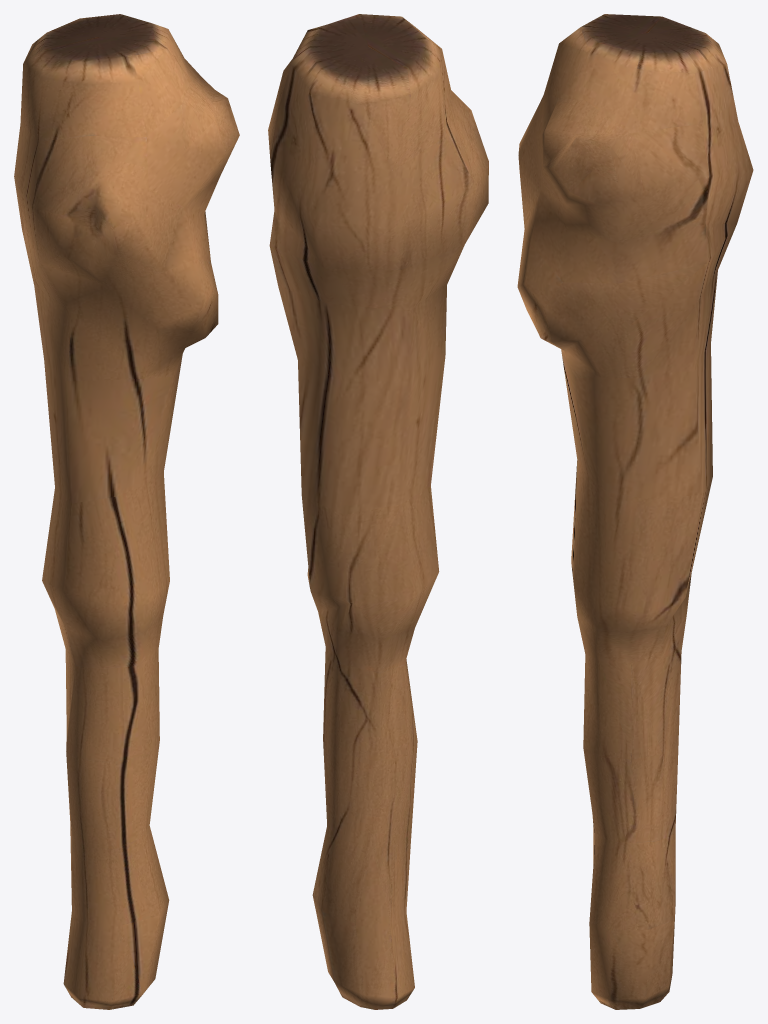
File: club.glb
3 renders of one model, left to right at view 1: azimuth 30°, elevation 25°; view 2: azimuth 150°, elevation 25°; view 3: azimuth 270°, elevation 25°, orthographic.
Bounding box in the file's own units: 0.1064 × 0.5195 × 0.1138.
Materials: 1 (1 with a texture image).
